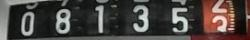digits: (210, 0, 229, 35), (131, 4, 149, 32), (170, 6, 188, 34), (54, 8, 71, 34), (20, 11, 34, 35), (94, 5, 104, 32)
